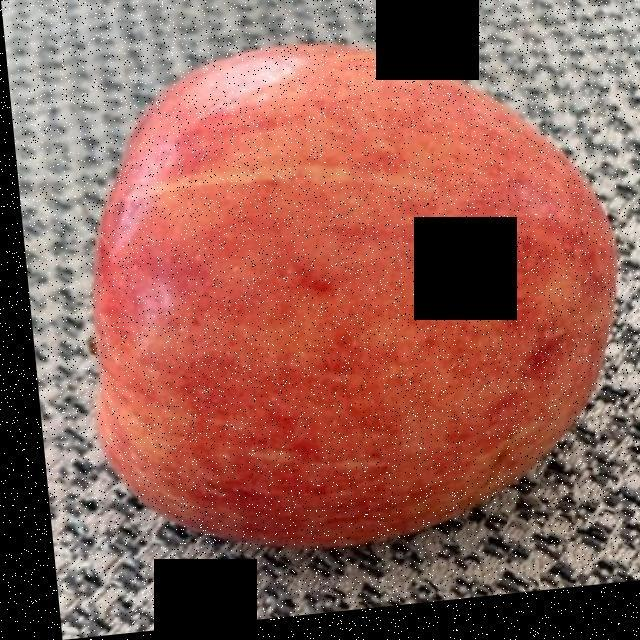apple: (88, 59, 599, 545)
